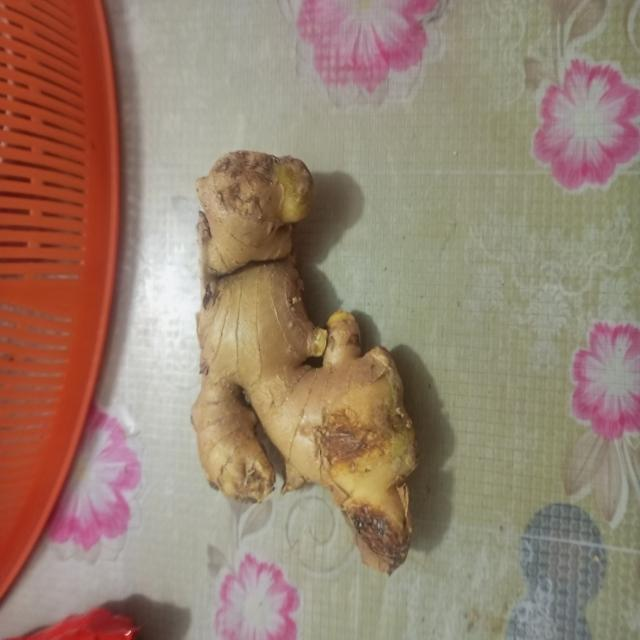ginger: (198, 170, 411, 560)
